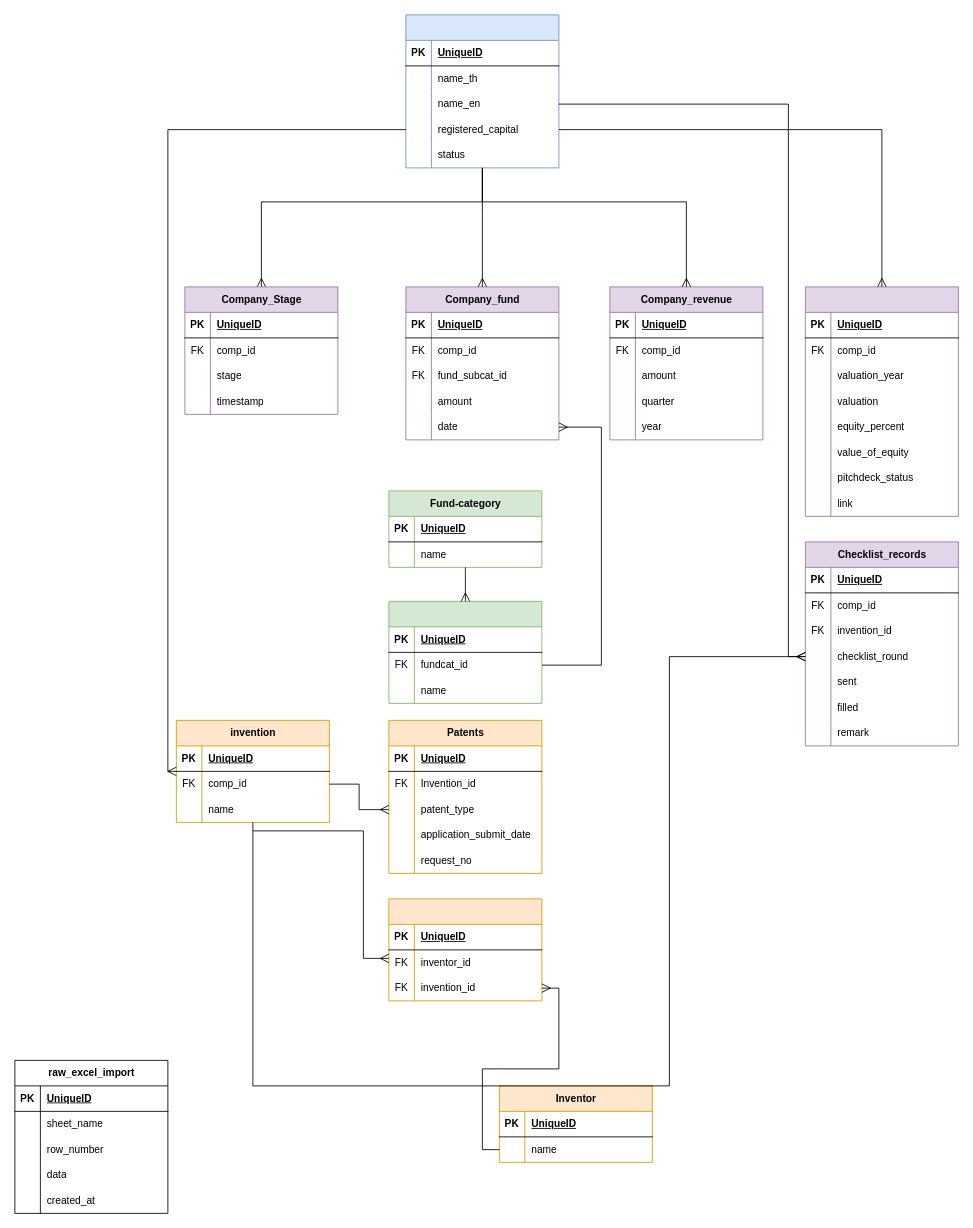
The diagram is 973 pixels wide and 1228 high, and some of its shapes have lost their labels. The shapes that lost their labels are listed below. From the top down, each one's box as (x1, y1, x2, y2) in pixels, then its label:
(405, 14, 559, 168): Company
(805, 286, 958, 516): Valuation_records
(388, 601, 542, 703): Fund_Subcat
(388, 898, 542, 1001): Invention_inventors
